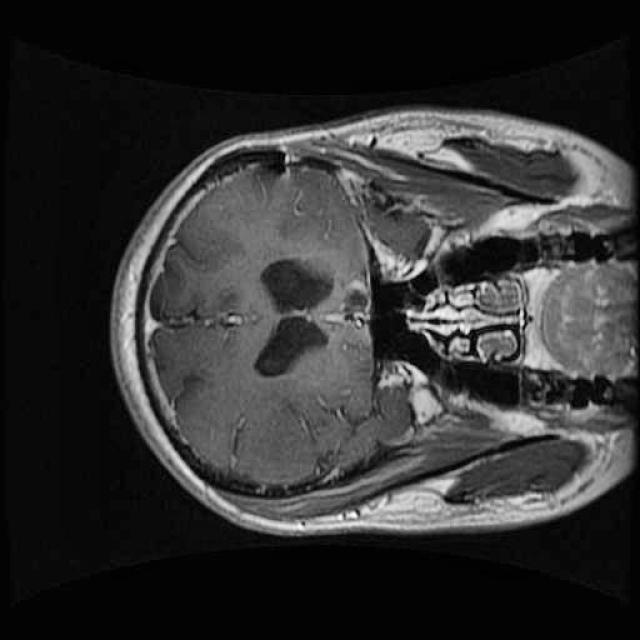Non-Tumor: (335, 275, 381, 331)
